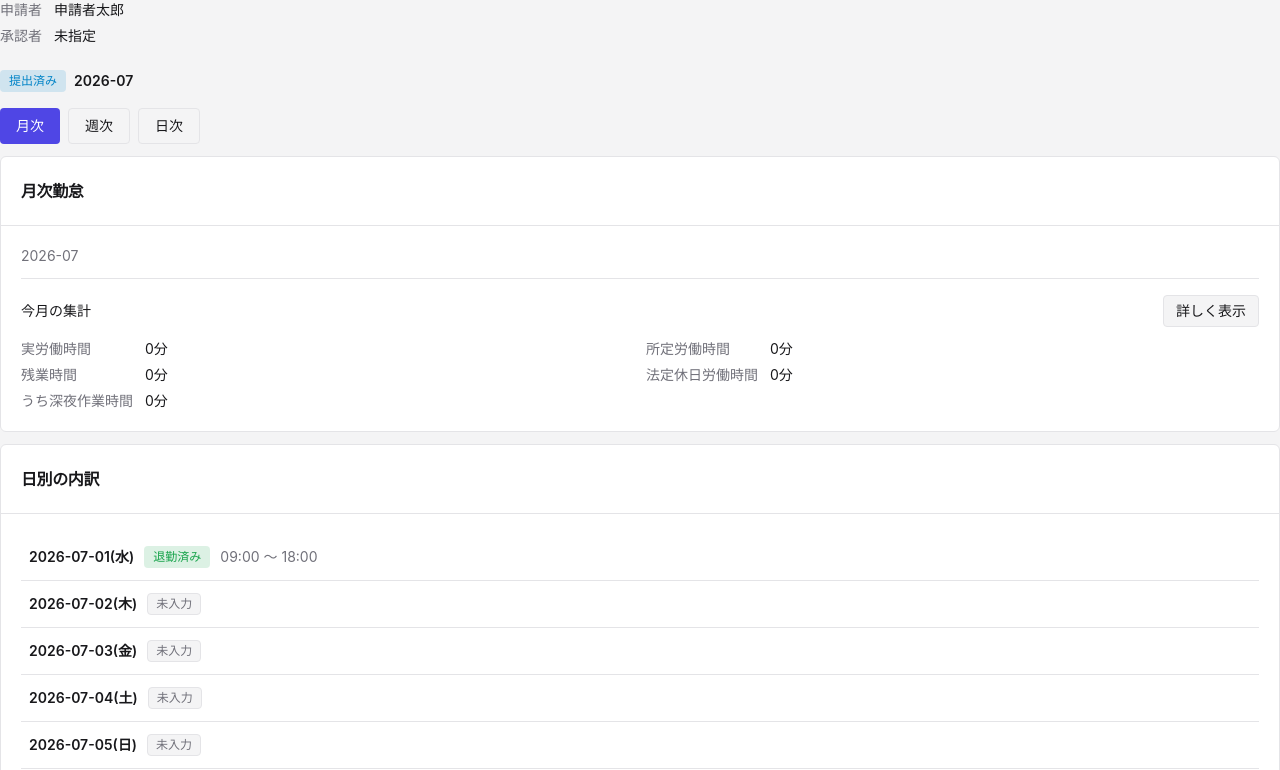
it: ApprovalDetailPanel › drills into the daily view when a day row is selected from the monthly view
The width and height of the screenshot is (1280, 770).
Click the text "2026-07-01(水)" at (82, 557), box [29,547,134,567]
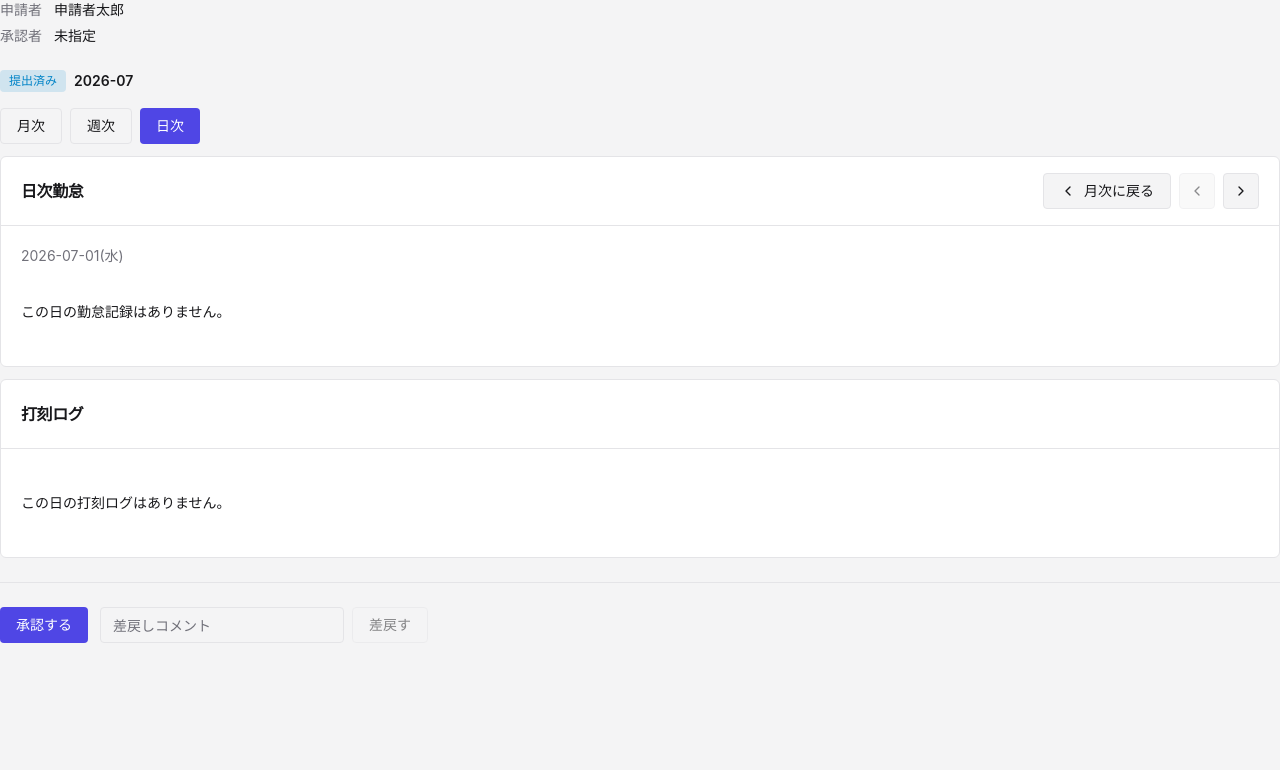
Result: the heading "日次勤怠" is shown at [21,181,83,201]
